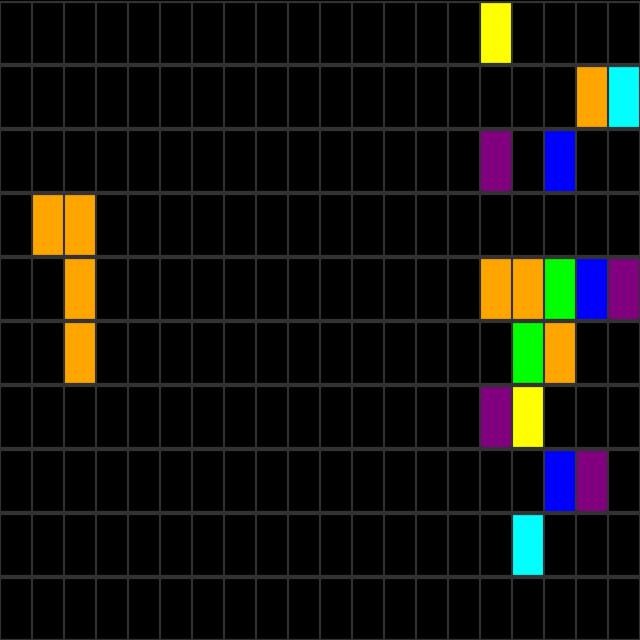Tetrimino_I: (31, 192, 96, 384)
